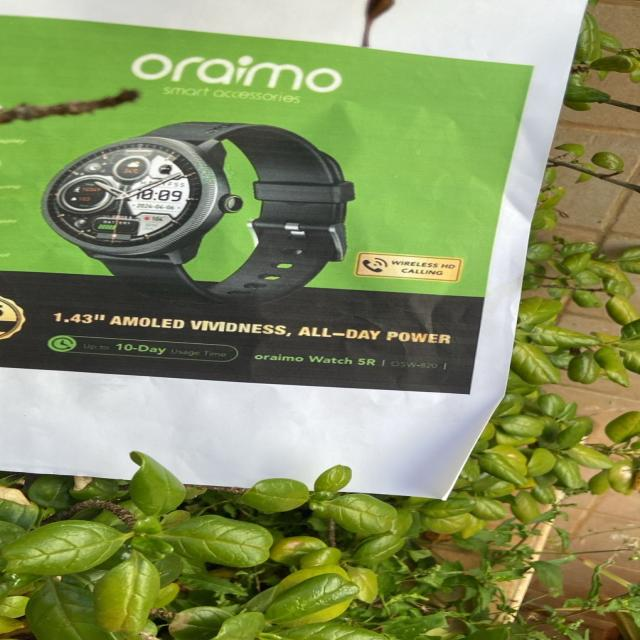Oraimo Watch 5R OSW-820: (247, 350, 459, 374)
